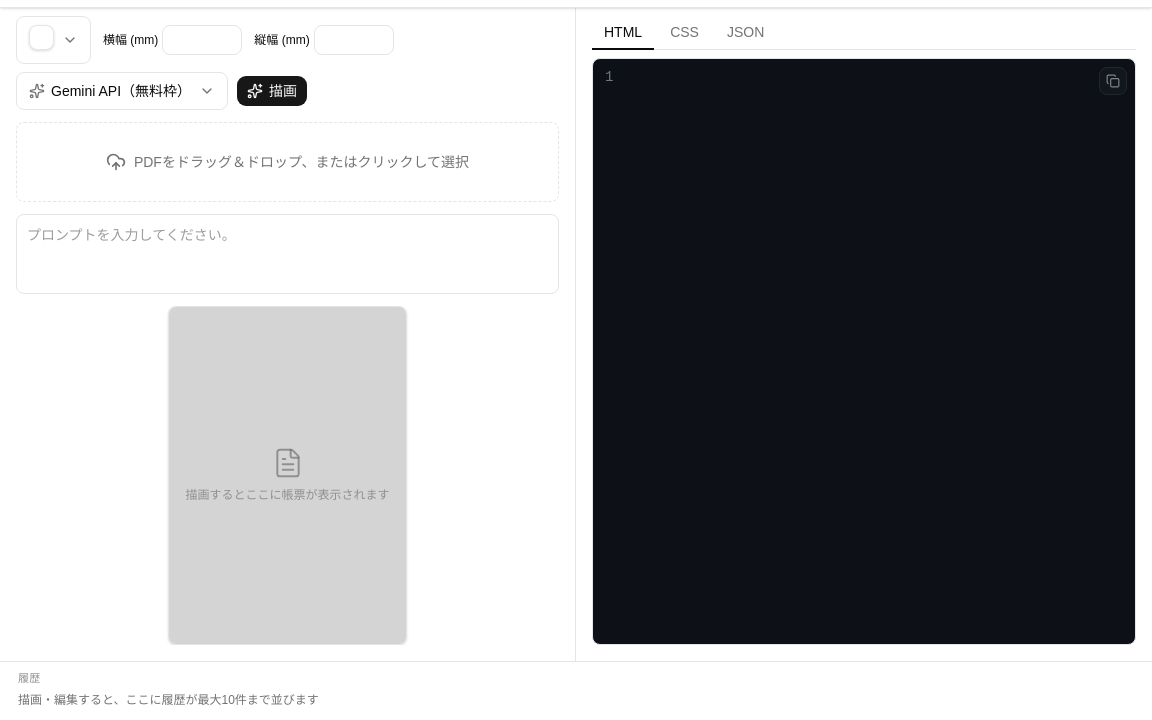
it: App（2カラム最小画面） › 左の入力エディタに文字を入力すると、右のプレビューiframeに即座に反映される
Type "Hello" into the text box named "HTML入力".
click(878, 351); type("Hello")  # box [621,59,1135,644]
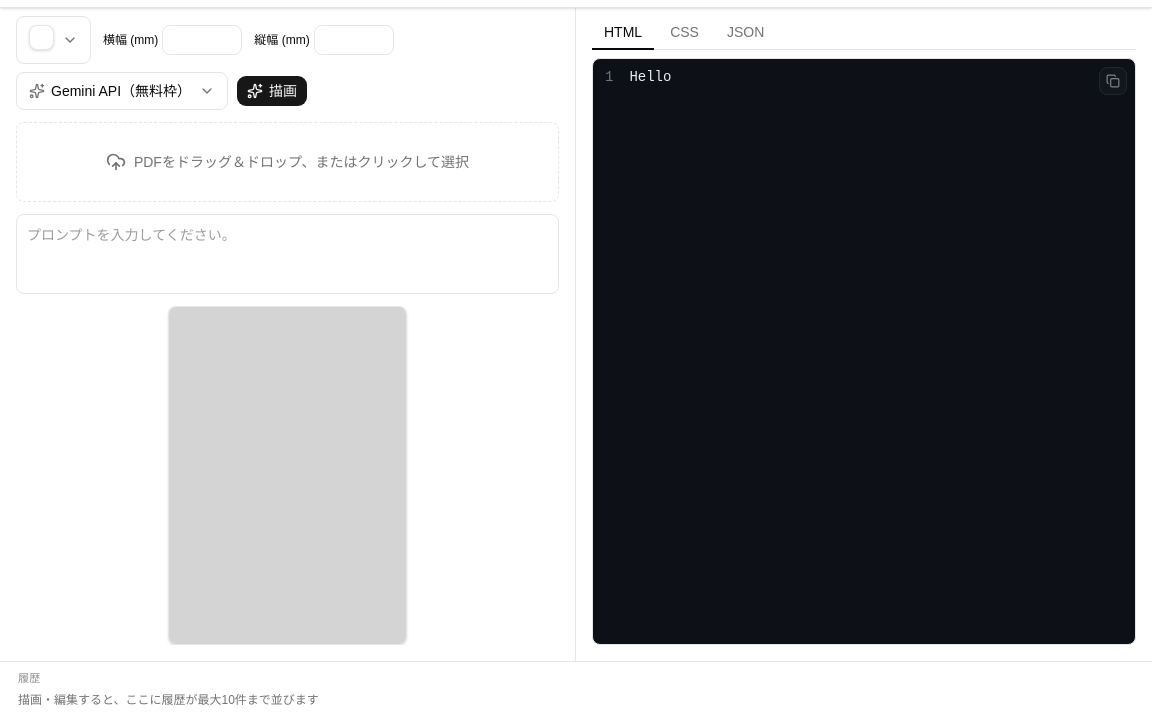
Result: the text "Hello" is shown at [629,69,671,85]
